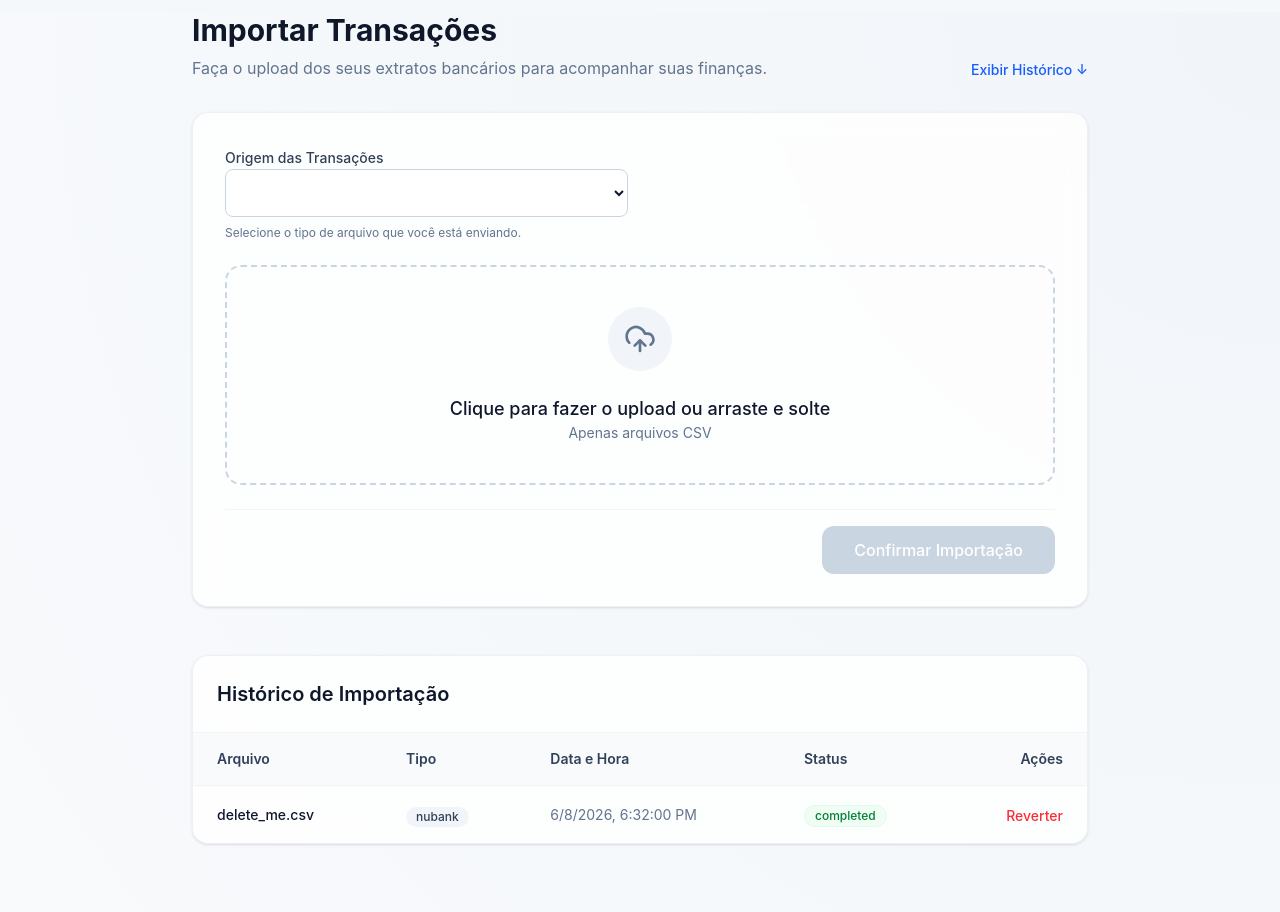
Test: Import Component › deletes a job when Revert is clicked and confirmed
# Click Revert to show inline confirmation
Click the button "Reverter" at coordinates (1035, 816), box x1=1006 y1=806 x2=1063 y2=826
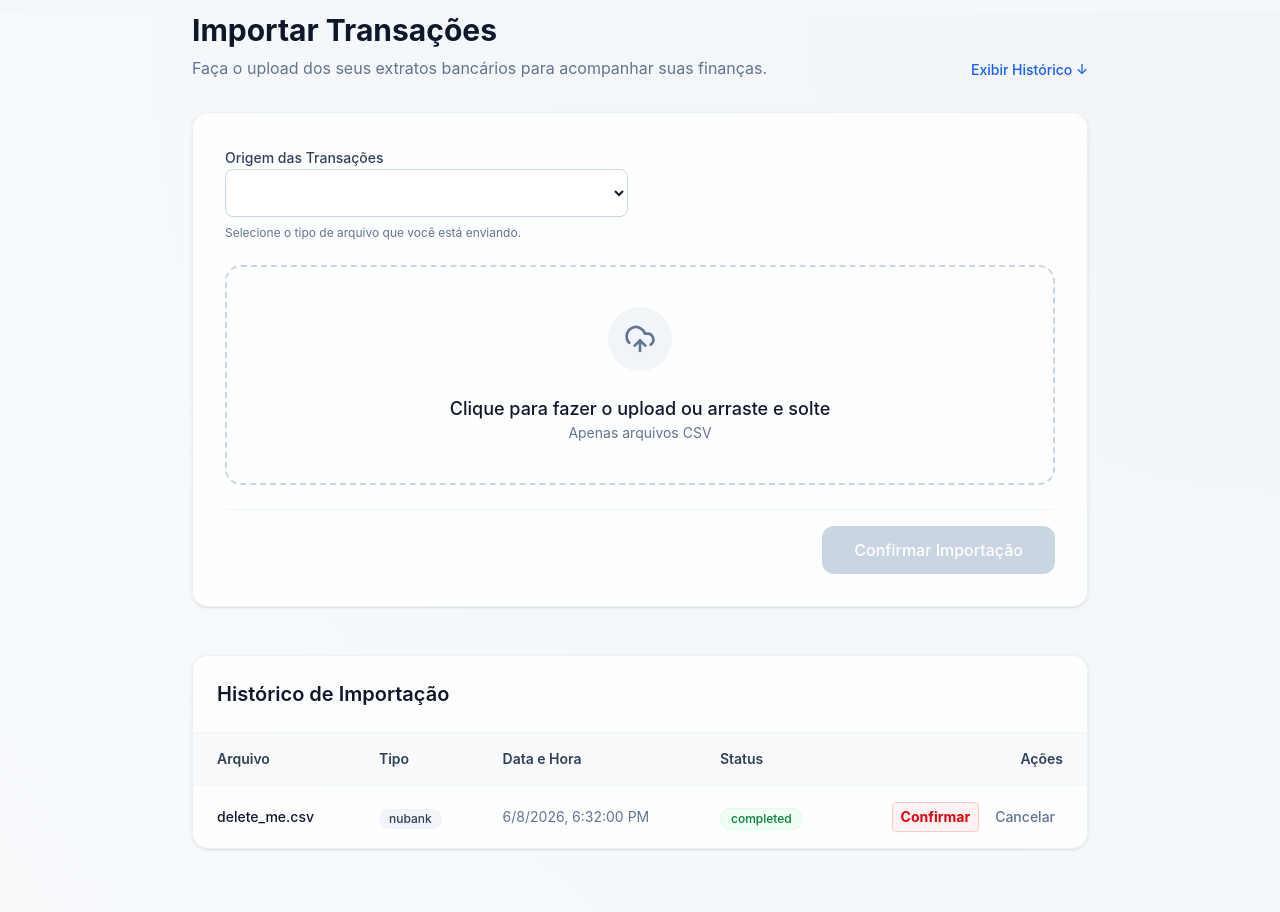
Click the button "Confirmar" at coordinates (935, 817), box x1=892 y1=802 x2=979 y2=832
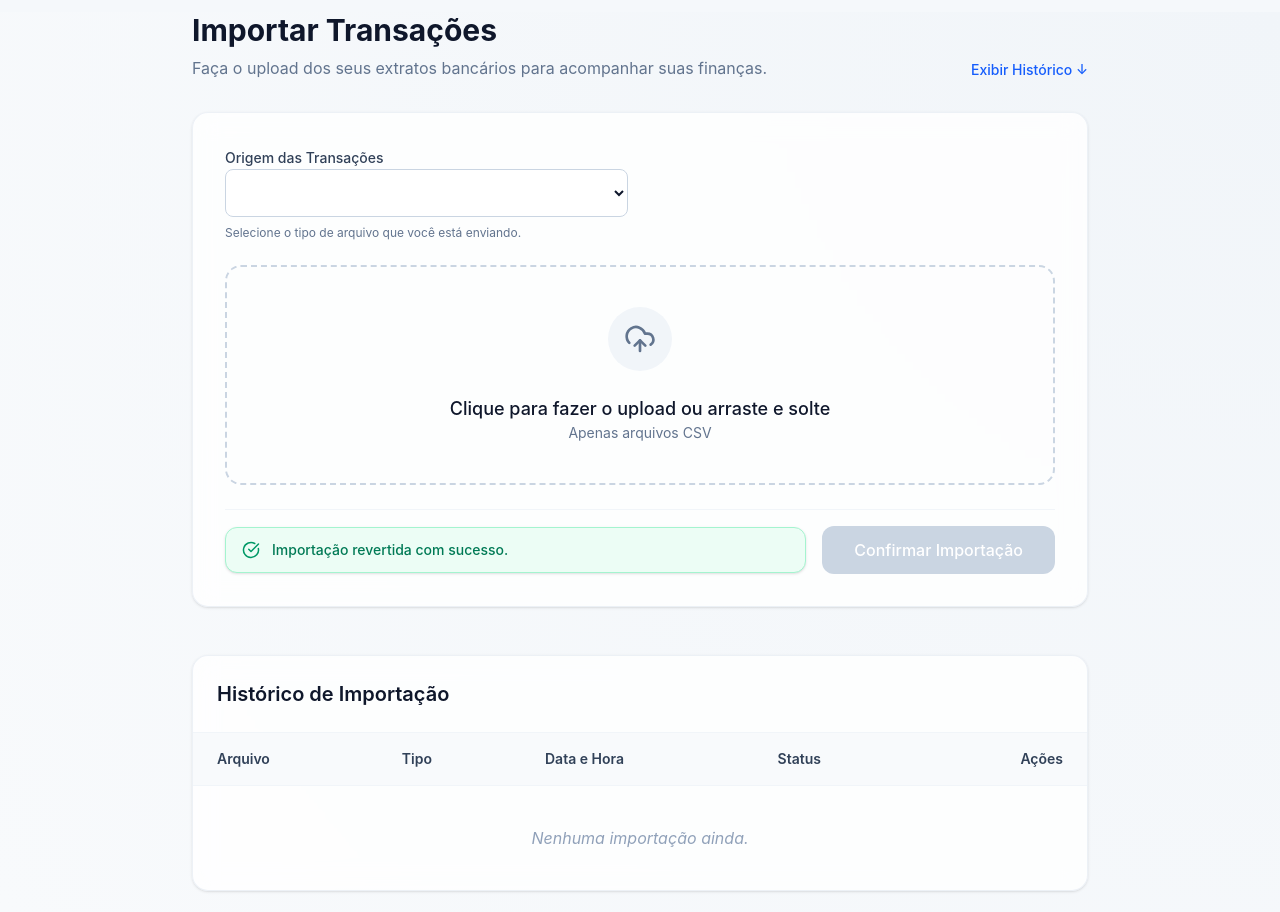
Check: the text "Importação revertida com sucesso." is shown, box x1=225 y1=527 x2=806 y2=573
Check: the text "Nenhuma importação ainda." is shown, box x1=193 y1=786 x2=1087 y2=890
